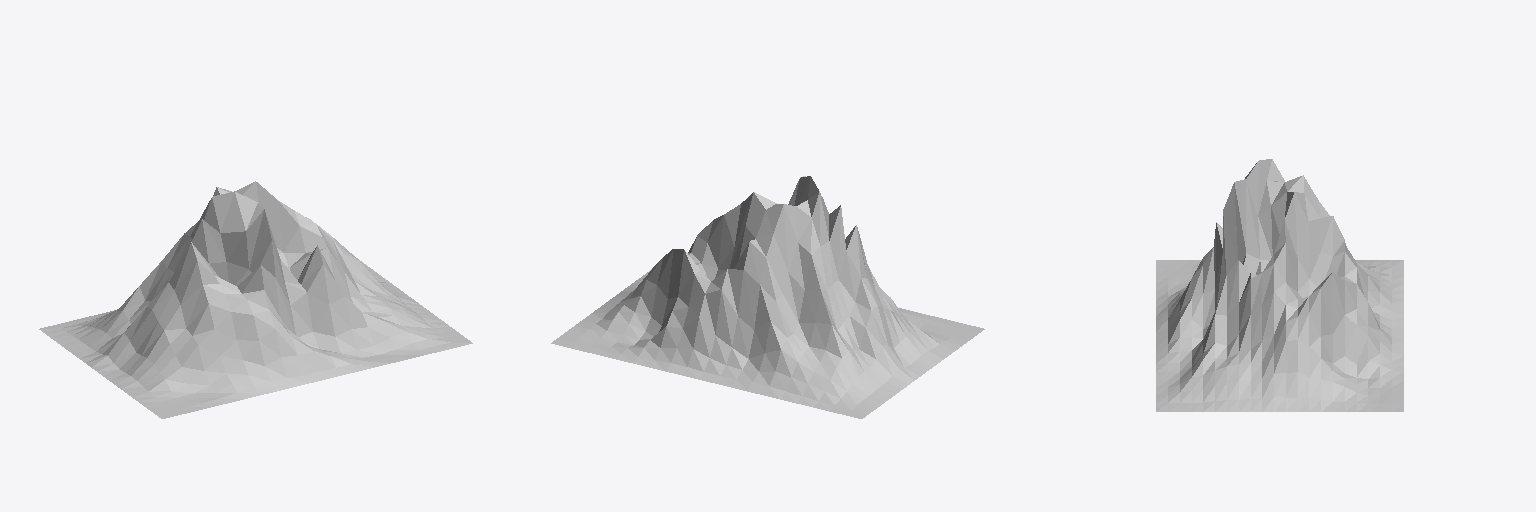
File: mountain_dark.obj
3 renders of one model, left to right at view 1: azimuth 30°, elevation 25°; view 2: azimuth 150°, elevation 25°; view 3: azimuth 270°, elevation 25°, orthographic.
Parts seen in each view (by area): view 1: mountain.1; view 2: mountain.1; view 3: mountain.1.
Boxes of the visible parts, x1=… form: mountain.1: x1=39, y1=181, x2=472, y2=418; mountain.1: x1=551, y1=176, x2=984, y2=418; mountain.1: x1=1156, y1=159, x2=1403, y2=411.
Bounding box in the file's own units: 510 × 251 × 351.